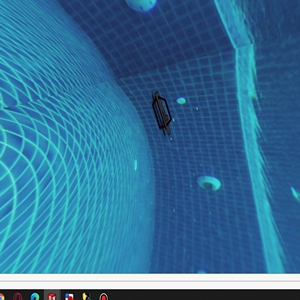submarine: (153, 92, 172, 132)
